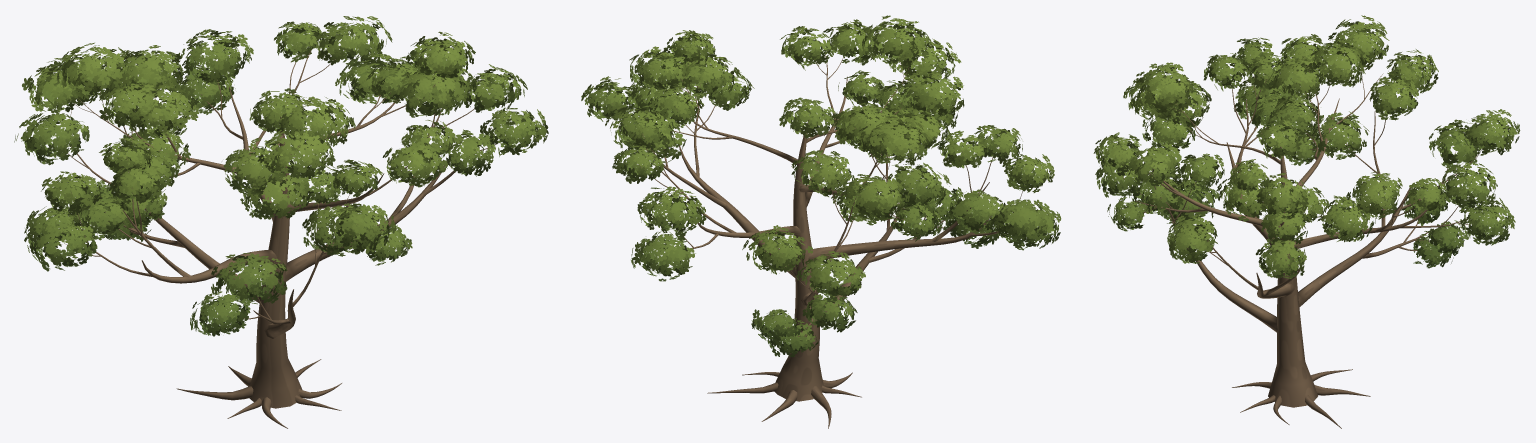
File: tree.gltf
The picture shows the model from 3 angles, left to right: view 1: azimuth 30°, elevation 25°; view 2: azimuth 150°, elevation 25°; view 3: azimuth 270°, elevation 25°; orthographic projection. The views are drawn at different scales.
Parts seen in each view (by area): view 1: Tree_LOD0; view 2: Tree_LOD0; view 3: Tree_LOD0.
Boxes of the visible parts, left/top/right/bottom form: Tree_LOD0: left=14, top=16, right=548, bottom=428; Tree_LOD0: left=581, top=15, right=1061, bottom=428; Tree_LOD0: left=1093, top=15, right=1520, bottom=428.
Bounding box in the file's own units: 36.73 × 24.8 × 30.43.
2 materials, 2 textured.
